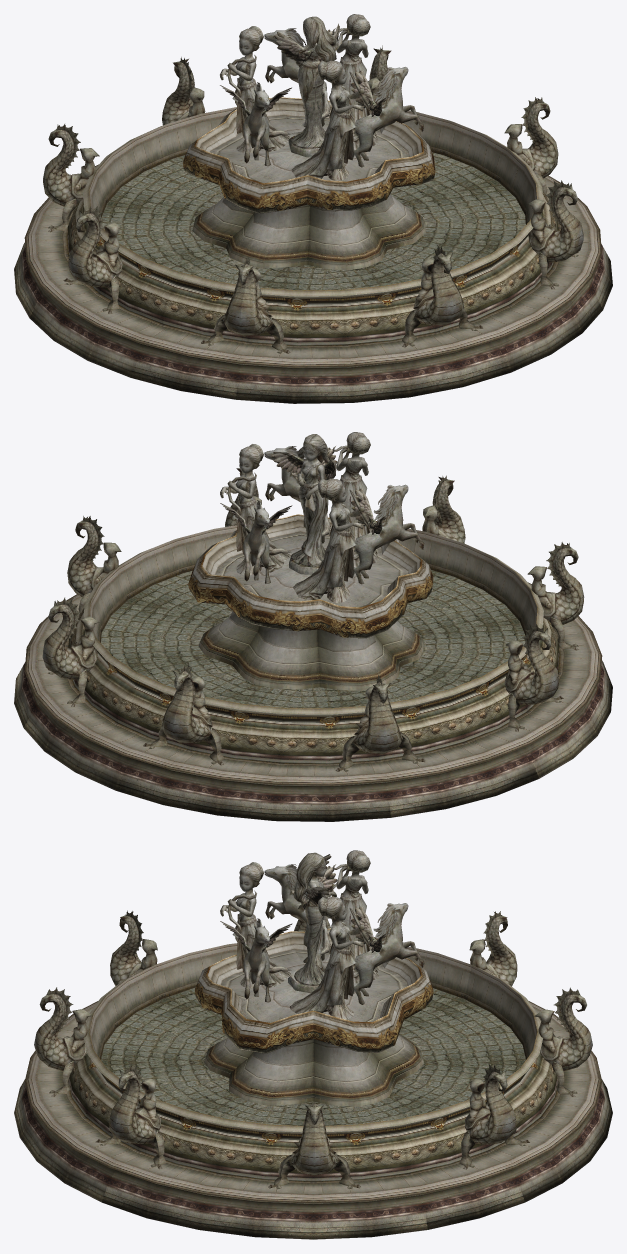
The model's file is fountain.obj.
3 renders of one model, top to bottom at view 1: azimuth 30°, elevation 25°; view 2: azimuth 150°, elevation 25°; view 3: azimuth 270°, elevation 25°, orthographic.
Parts seen in each view (by area): view 1: objCentercastle_fountain; view 2: objCentercastle_fountain; view 3: objCentercastle_fountain.
Part boxes in pixels (bbox=[...]): objCentercastle_fountain: bbox=[14, 14, 612, 403]; objCentercastle_fountain: bbox=[14, 432, 612, 821]; objCentercastle_fountain: bbox=[14, 850, 612, 1239].
Bounding box in the file's own units: 1181 × 564 × 1181.
Materials: 1 (1 with a texture image).
